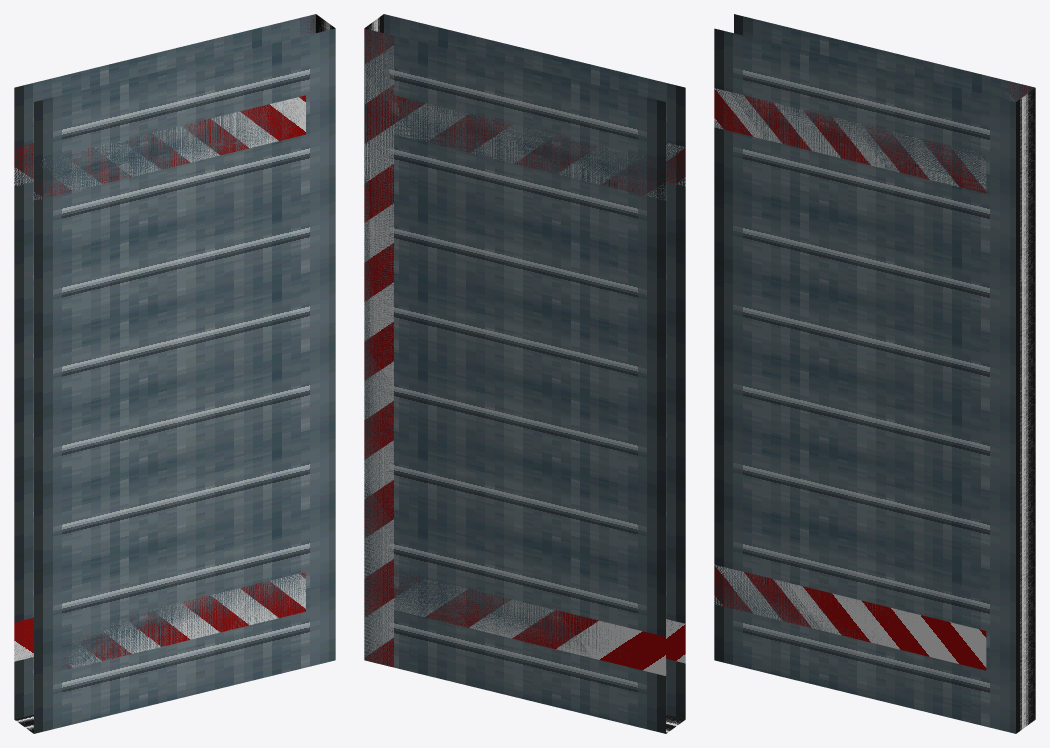
File: primary_138.glb
The picture shows the model from 3 angles, left to right: view 1: azimuth 30°, elevation 25°; view 2: azimuth 150°, elevation 25°; view 3: azimuth 330°, elevation 25°; orthographic projection.
Visible parts, largest first — view 1: Object; view 2: Object; view 3: Object.
Boxes of the visible parts, x1,y1,x2,y2 form: Object: [14, 14, 335, 733]; Object: [364, 14, 685, 733]; Object: [714, 14, 1035, 733].
Bounding box in the file's own units: 1.2 × 2.4 × 0.136.
Materials: 5 (5 with a texture image).
